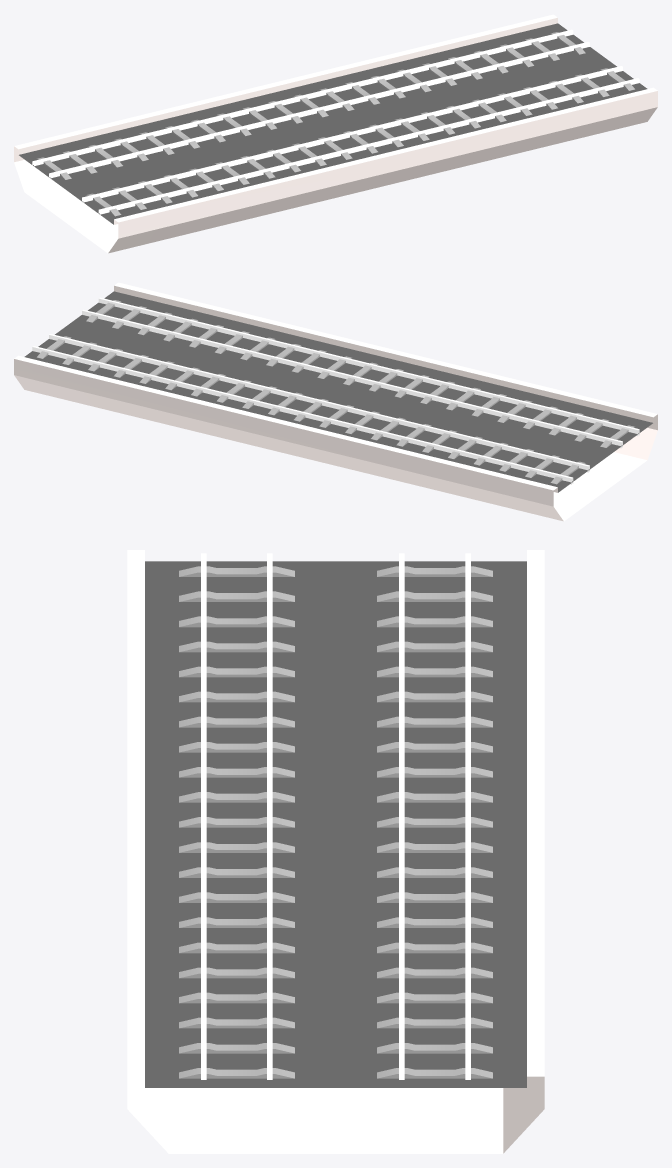
The model's file is railway_001.glb.
3 renders of one model, top to bottom at view 1: azimuth 30°, elevation 25°; view 2: azimuth 150°, elevation 25°; view 3: azimuth 270°, elevation 25°, orthographic. The views are drawn at different scales.
Parts seen in each view (by area): view 1: railway_001; view 2: railway_001; view 3: railway_001.
Part boxes in pixels (x1,y1,x2,y2): railway_001: (14, 14, 657, 253); railway_001: (14, 282, 657, 521); railway_001: (127, 550, 544, 1153).
Bounding box in the file's own units: 30 × 2.05 × 10.05.
1 material, 1 textured.
